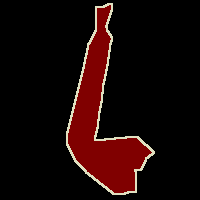tie: (67, 4, 154, 194)
